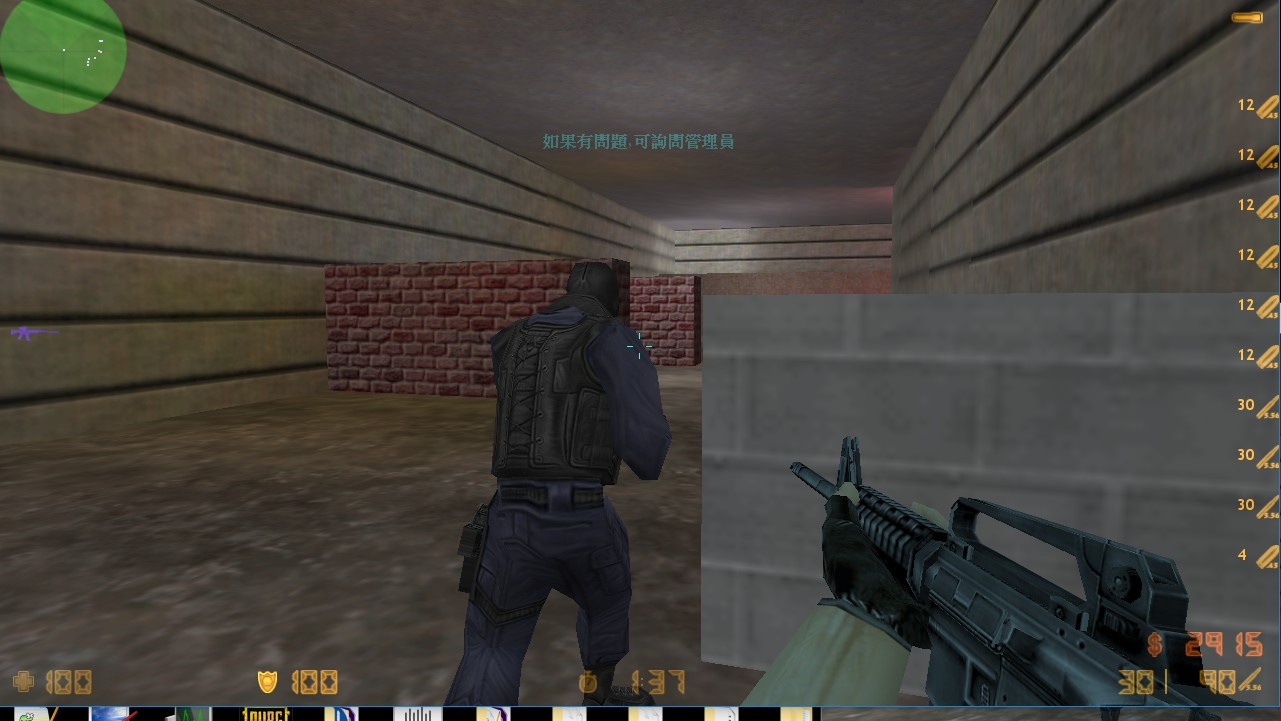person: (473, 261, 632, 692)
